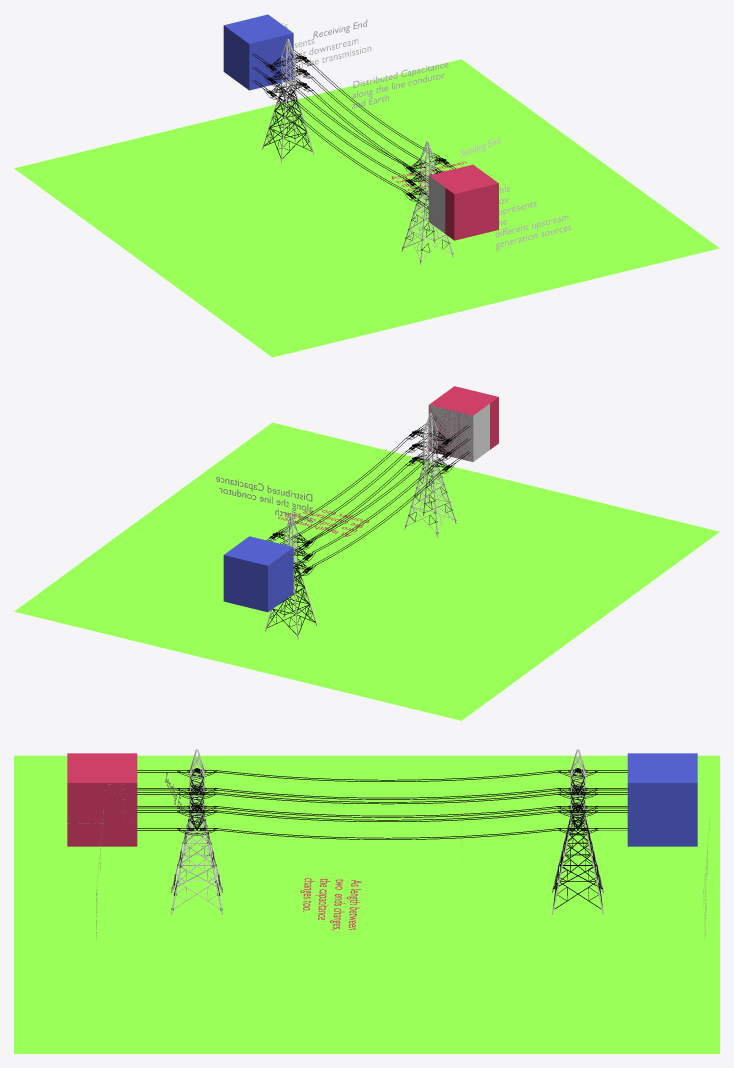
The model's file is ferranti_effect.glb.
3 renders of one model, top to bottom at view 1: azimuth 30°, elevation 25°; view 2: azimuth 150°, elevation 25°; view 3: azimuth 270°, elevation 25°, orthographic. The views are drawn at different scales.
Parts seen in each view (by area): view 1: Plane.002, Cube.003, Cube.002, Cube.001, Text.006, Text.005, Cylinder_1_3, Cylinder_1_2, Cube_2_3, Cylinder_1, Text.007, Cube_2; view 2: Plane.002, Cube.003, Cube.001, Cube.002, Text.005, Cylinder_1_2, Cylinder_1_3, Cube_2, Cylinder_1, Text.008; view 3: Plane.002, Cube.002, Cube.003, Cylinder_1, Cylinder_1_2, Cylinder_1_3, Text.008, Cube_2, Cube_2_3, Cube_2_2, Cube_4.
Boxes of the visible parts, box(x1,y1,x2,y2) form: Plane.002: box(14, 59, 719, 357); Cube.003: box(223, 14, 293, 90); Cube.002: box(429, 164, 498, 240); Cube.001: box(428, 175, 445, 233); Text.006: box(495, 185, 571, 250); Text.005: box(352, 62, 448, 108); Cylinder_1_3: box(278, 64, 455, 183); Cylinder_1_2: box(278, 77, 441, 196); Cube_2_3: box(262, 39, 314, 163); Cylinder_1: box(277, 90, 428, 209); Text.007: box(274, 23, 371, 85); Cube_2: box(401, 141, 453, 265); Plane.002: box(14, 422, 719, 720); Cube.003: box(223, 536, 293, 612); Cube.001: box(428, 404, 489, 461); Cube.002: box(428, 386, 498, 459); Text.005: box(216, 477, 312, 522); Cylinder_1_2: box(281, 430, 470, 551); Cylinder_1_3: box(281, 417, 469, 538); Cube_2: box(404, 413, 456, 537); Cylinder_1: box(295, 444, 470, 564); Text.008: box(278, 509, 369, 536); Plane.002: box(14, 755, 719, 1053); Cube.002: box(67, 753, 137, 846); Cube.003: box(627, 753, 697, 846); Cylinder_1: box(137, 806, 557, 839); Cylinder_1_2: box(137, 788, 557, 821); Cylinder_1_3: box(137, 770, 557, 804); Text.008: box(300, 878, 361, 930); Cube_2: box(171, 749, 222, 914); Cube_2_3: box(552, 749, 603, 914); Cube_2_2: box(173, 814, 220, 909); Cube_4: box(554, 814, 601, 908).
Bounding box in the file's own units: 45.35 × 11.6 × 45.35.
